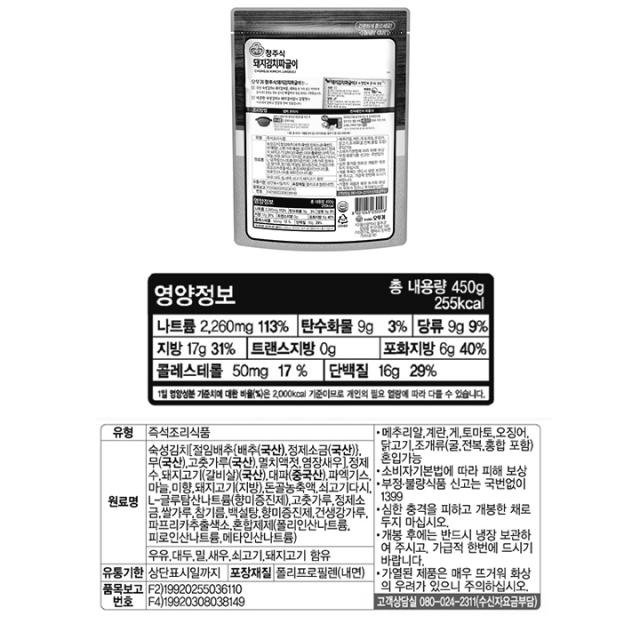Nutrition Label: (140, 262, 514, 413)
